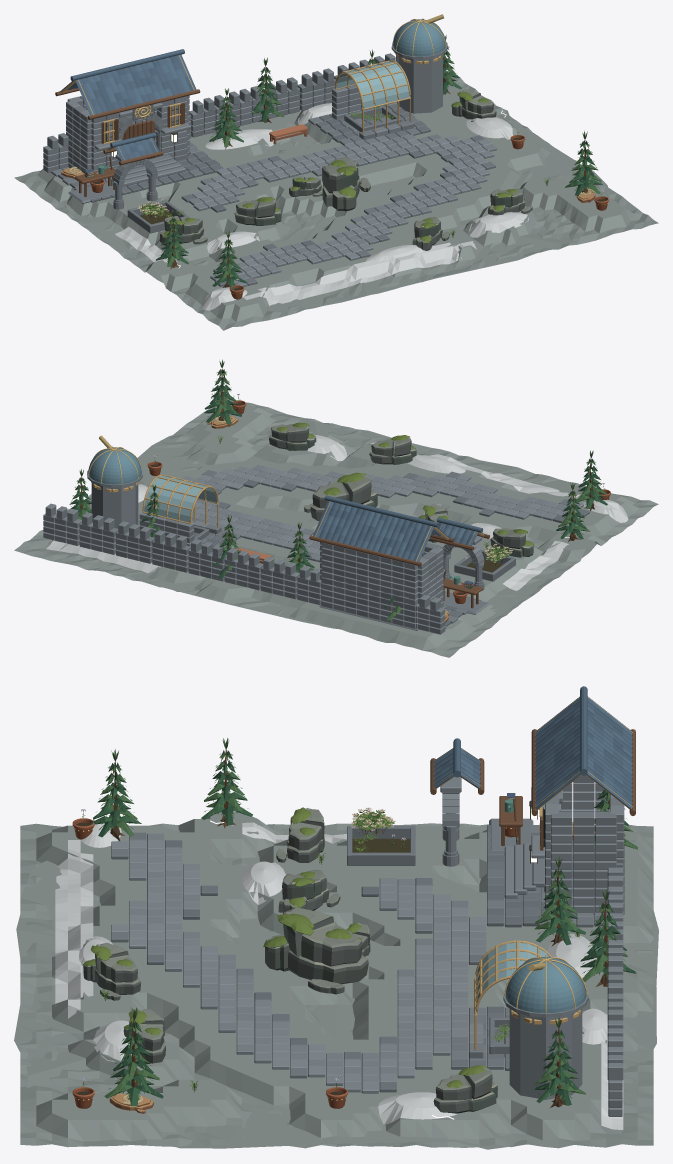
The model's file is hibern.glb.
3 views of the same model, one above another, from view 1: azimuth 30°, elevation 25°; view 2: azimuth 150°, elevation 25°; view 3: azimuth 270°, elevation 25° (orthographic). The views are drawn at different scales.
Visible parts, largest first — view 1: merged-masonry-botany, merged-timber-ceramic, merged-opaque-water; view 2: merged-masonry-botany, merged-timber-ceramic, merged-opaque-water; view 3: merged-masonry-botany, merged-timber-ceramic, merged-opaque-water.
Part boxes in pixels (x1=…): merged-masonry-botany: x1=14, y1=35, x2=658, y2=330; merged-timber-ceramic: x1=55, y1=14, x2=446, y2=196; merged-opaque-water: x1=336, y1=61, x2=409, y2=108; merged-masonry-botany: x1=14, y1=359, x2=658, y2=657; merged-timber-ceramic: x1=88, y1=435, x2=489, y2=608; merged-opaque-water: x1=144, y1=476, x2=216, y2=522; merged-masonry-botany: x1=14, y1=738, x2=658, y2=1149; merged-timber-ceramic: x1=430, y1=686, x2=635, y2=1050; merged-opaque-water: x1=476, y1=942, x2=549, y2=1002.
Size of the model in its own units: 24.23 by 5.81 by 20.37.
